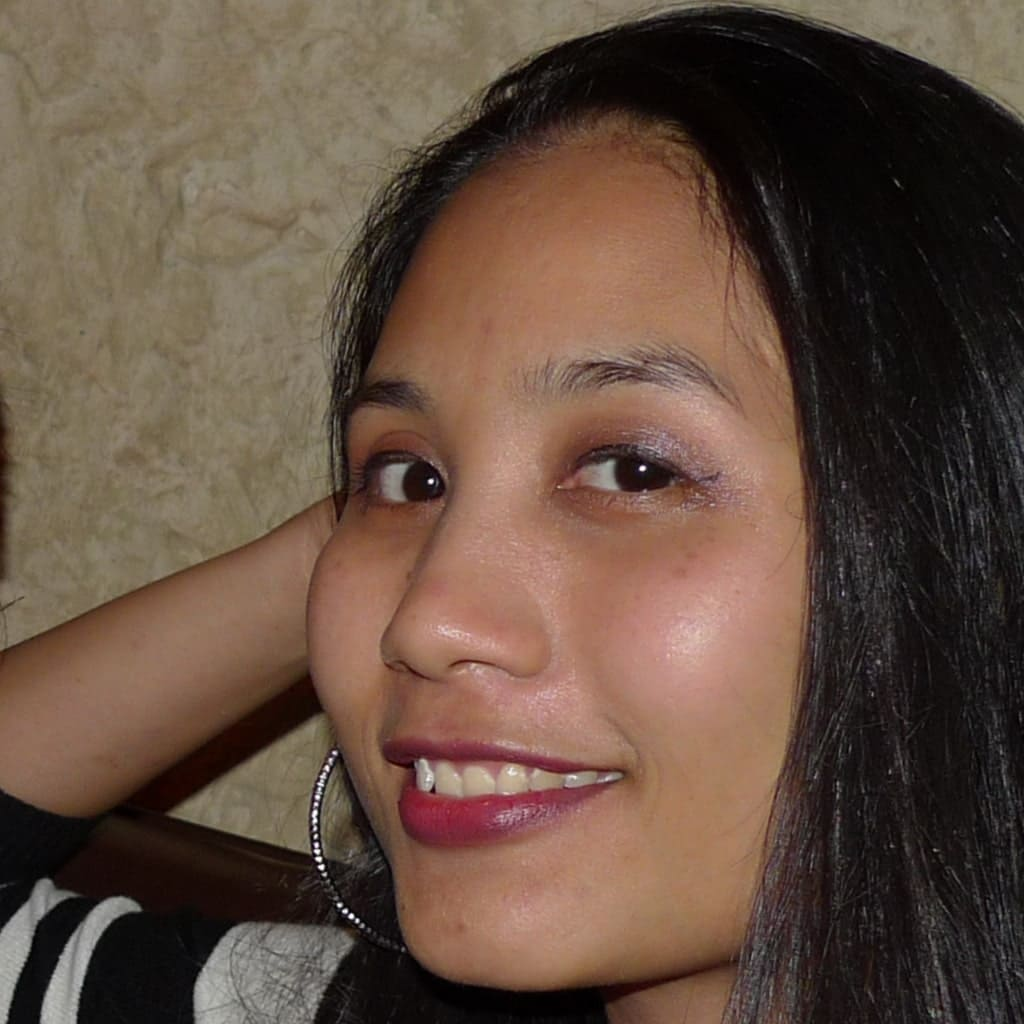without_mask: (322, 140, 870, 979)
